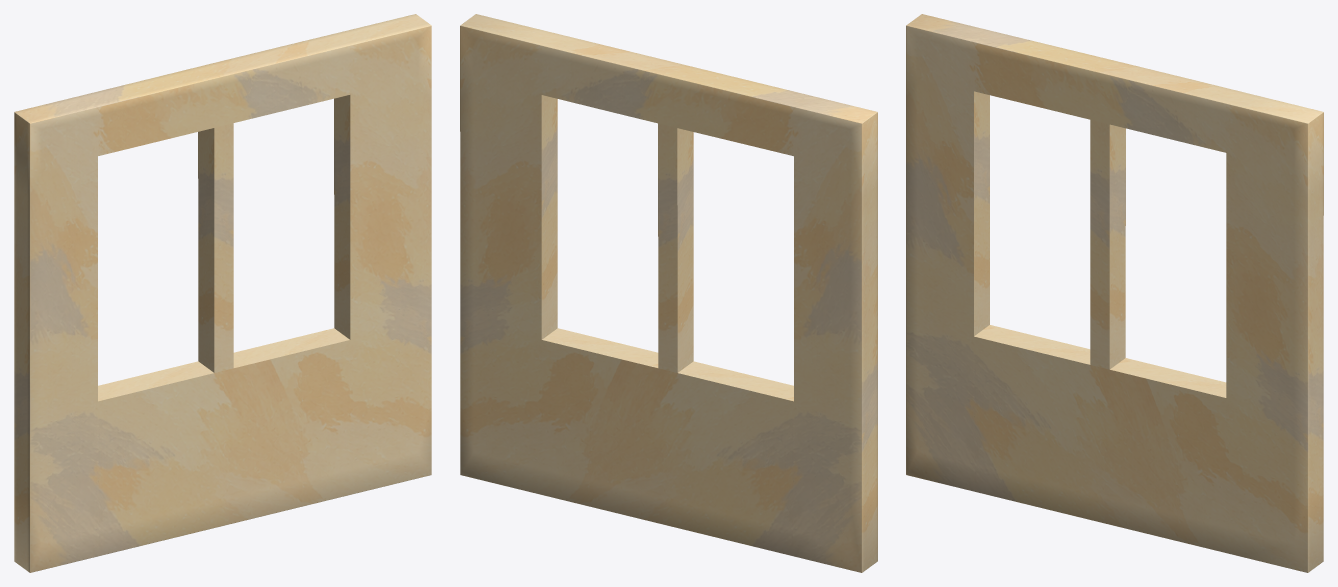
Rendered from CM_C05_Plaster_0.fbx.
3 renders of one model, left to right at view 1: azimuth 30°, elevation 25°; view 2: azimuth 150°, elevation 25°; view 3: azimuth 330°, elevation 25°, orthographic.
Parts seen in each view (by area): view 1: CM_C05_Plaster_0; view 2: CM_C05_Plaster_0; view 3: CM_C05_Plaster_0.
Boxes of the visible parts, x1,y1,x2,y2 form: CM_C05_Plaster_0: (14,14,431,572); CM_C05_Plaster_0: (460,14,877,572); CM_C05_Plaster_0: (906,14,1323,572).
Bounding box in the file's own units: 2.9 × 3.1 × 0.205.
